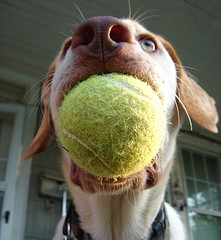tennis ball: (58, 73, 168, 182)
